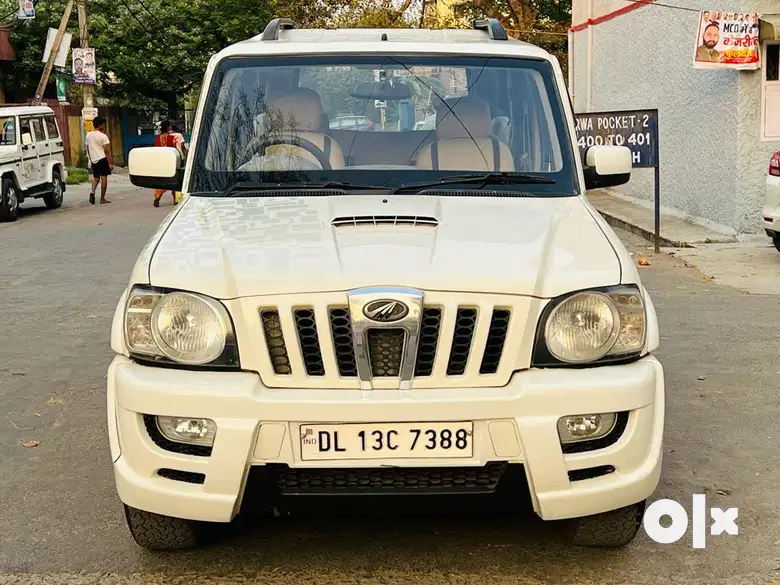car: (111, 20, 657, 558)
numberplate: (296, 415, 482, 461)
